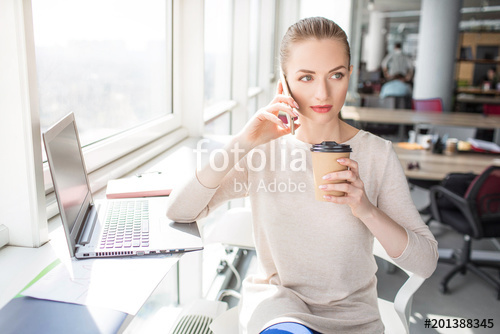phone: (258, 68, 300, 139)
talk: (246, 59, 351, 150)
